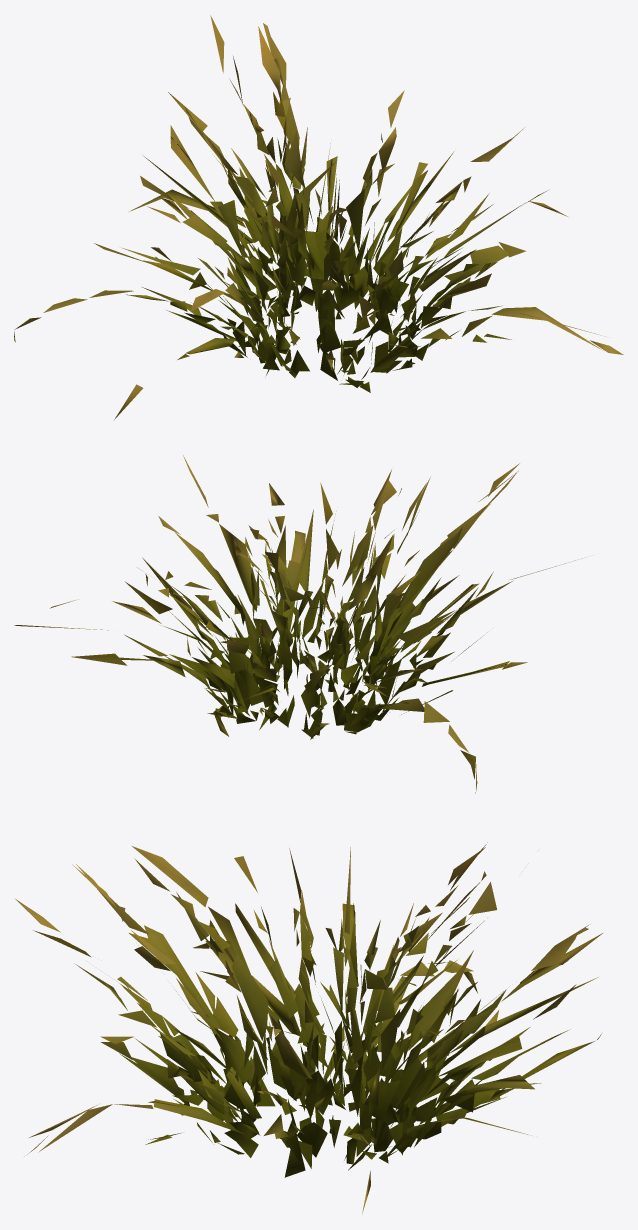
File: desert_grass_fine_low_lod1.glb
3 renders of one model, top to bottom at view 1: azimuth 30°, elevation 25°; view 2: azimuth 150°, elevation 25°; view 3: azimuth 270°, elevation 25°, orthographic. The views are drawn at different scales.
Parts seen in each view (by area): view 1: desert_grass_fine_low.001; view 2: desert_grass_fine_low.001; view 3: desert_grass_fine_low.001.
Boxes of the visible parts, x1,y1,x2,y2 form: desert_grass_fine_low.001: (14, 15, 623, 419); desert_grass_fine_low.001: (14, 455, 581, 793); desert_grass_fine_low.001: (15, 842, 602, 1214).
Size of the model in its own units: 1.34 by 0.6572 by 1.21.
1 material, 1 textured.
